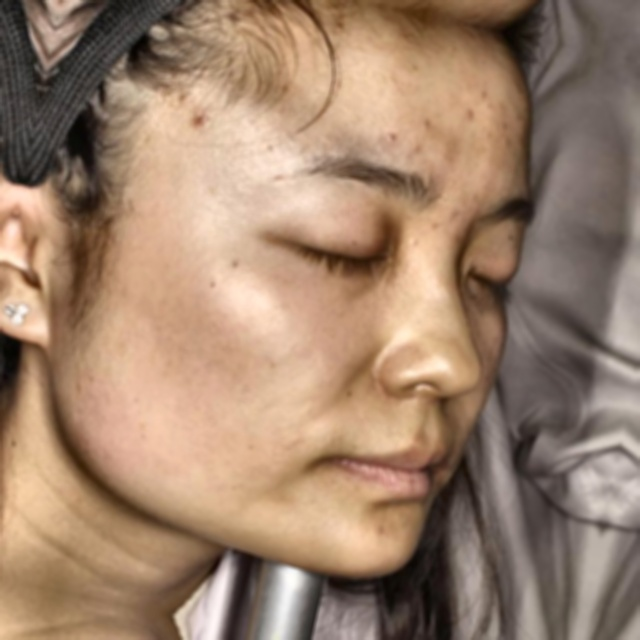comedone: (184, 107, 216, 139)
